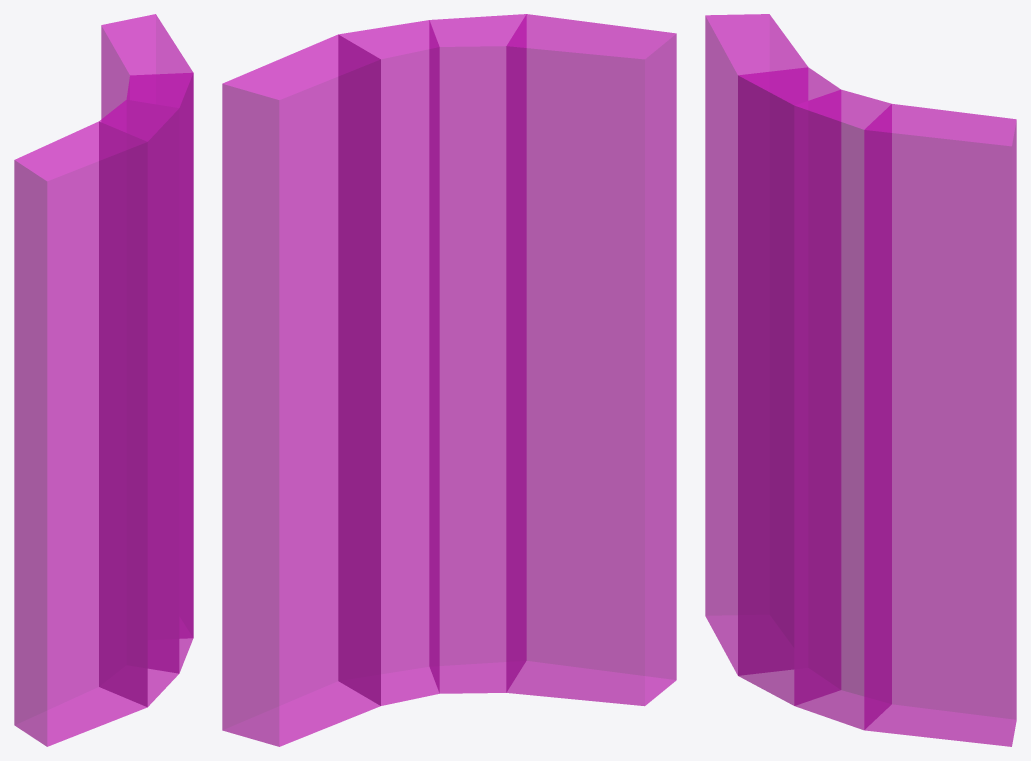
File: SM_Bld_Wall_L_Curve_01_Collision.fbx
The picture shows the model from 3 angles, left to right: view 1: azimuth 30°, elevation 25°; view 2: azimuth 150°, elevation 25°; view 3: azimuth 270°, elevation 25°; orthographic projection. The views are drawn at different scales.
Parts seen in each view (by area): view 1: SM_Bld_Wall_L_Curve_01_Collision; view 2: SM_Bld_Wall_L_Curve_01_Collision; view 3: SM_Bld_Wall_L_Curve_01_Collision.
Boxes of the visible parts, x1,y1,x2,y2 form: SM_Bld_Wall_L_Curve_01_Collision: [14, 14, 193, 746]; SM_Bld_Wall_L_Curve_01_Collision: [222, 14, 676, 746]; SM_Bld_Wall_L_Curve_01_Collision: [705, 14, 1016, 746].
Bounding box in the file's own units: 286 × 605 × 284.
